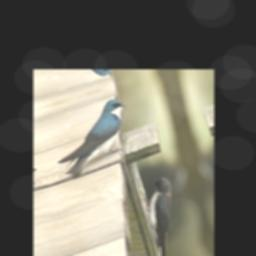Swallow: (47, 95, 138, 179)
